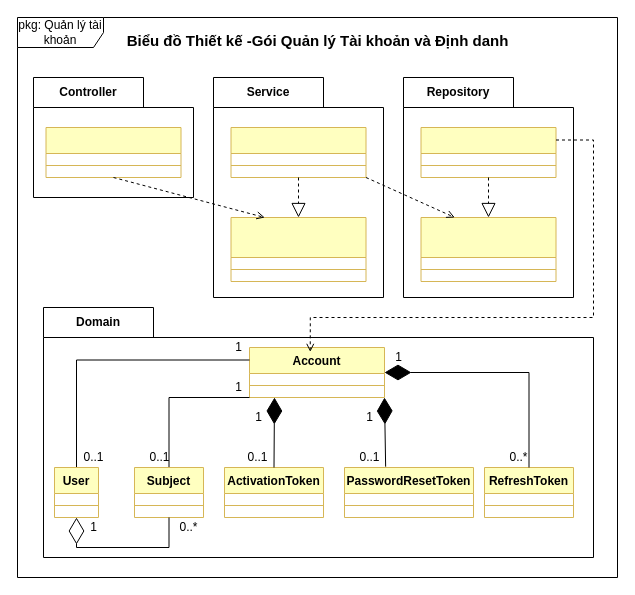
Some shapes in this 635 by 595 pixel diagram are drawn without their labels. Here are the shapes that lost their labels. From the top down, the centre of each, then its label:
the point at 113,152: AccountController
the point at 298,152: AccountService
the point at 488,152: AccountRepository
the point at 298,249: <<Interface>> IAccountService
the point at 488,249: <<Interface>> IAccountRepository
